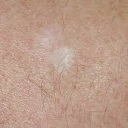Carcinoma: (50, 40, 78, 73)
